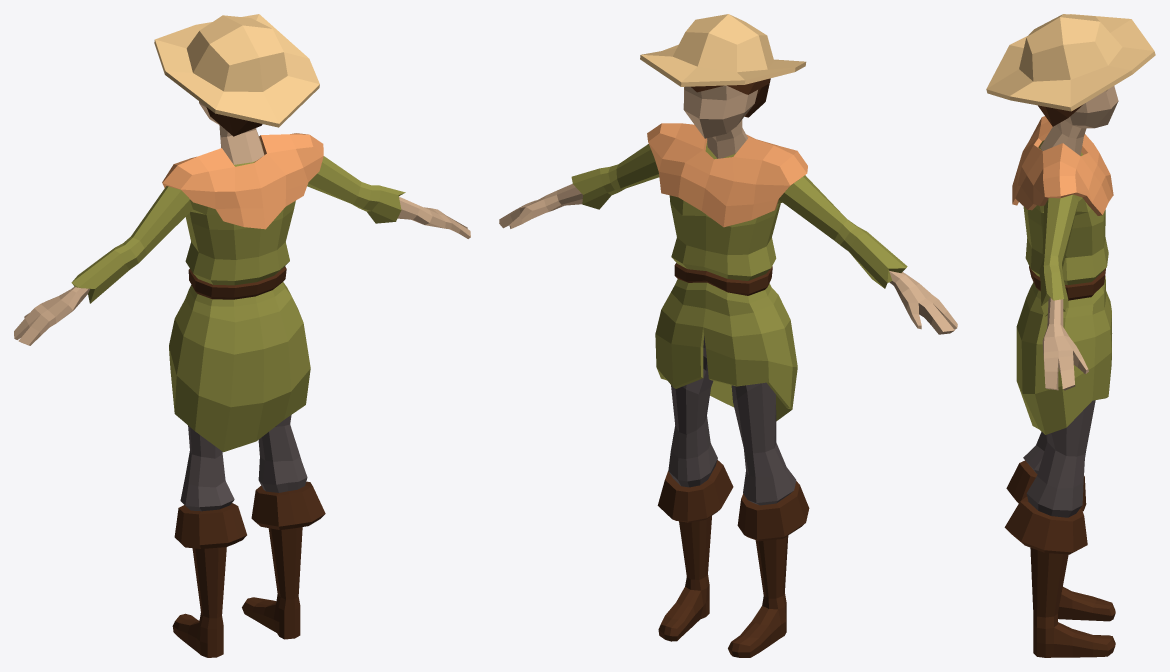
The model's file is Peasant_Brolic_Originfix.fbx.
The picture shows the model from 3 angles, left to right: view 1: azimuth 30°, elevation 25°; view 2: azimuth 150°, elevation 25°; view 3: azimuth 270°, elevation 25°; orthographic projection.
Visible parts, largest first — view 1: Brolic; view 2: Brolic; view 3: Brolic.
Boxes of the visible parts, x1,y1,x2,y2 form: Brolic: [14, 14, 470, 657]; Brolic: [499, 14, 957, 657]; Brolic: [986, 14, 1155, 657].
Bounding box in the file's own units: 0.8053 × 0.2586 × 1.04.
